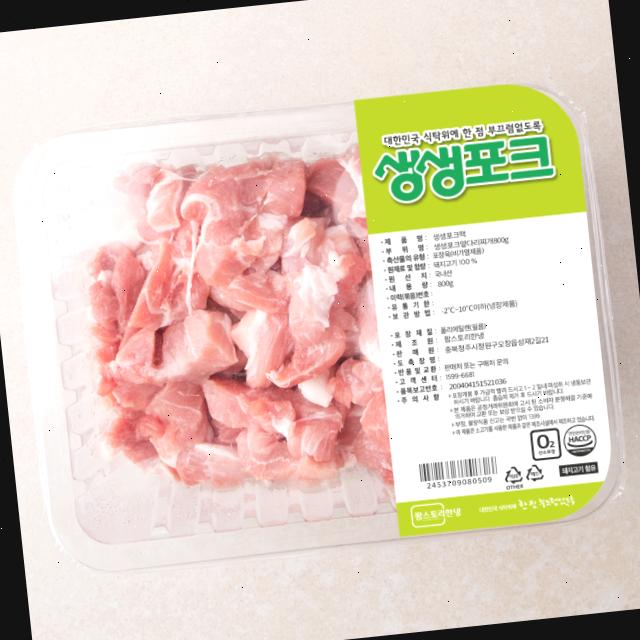meat: (20, 74, 634, 586)
